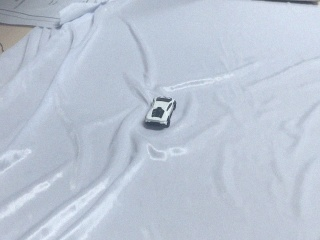toy_car: (144, 96, 176, 128)
